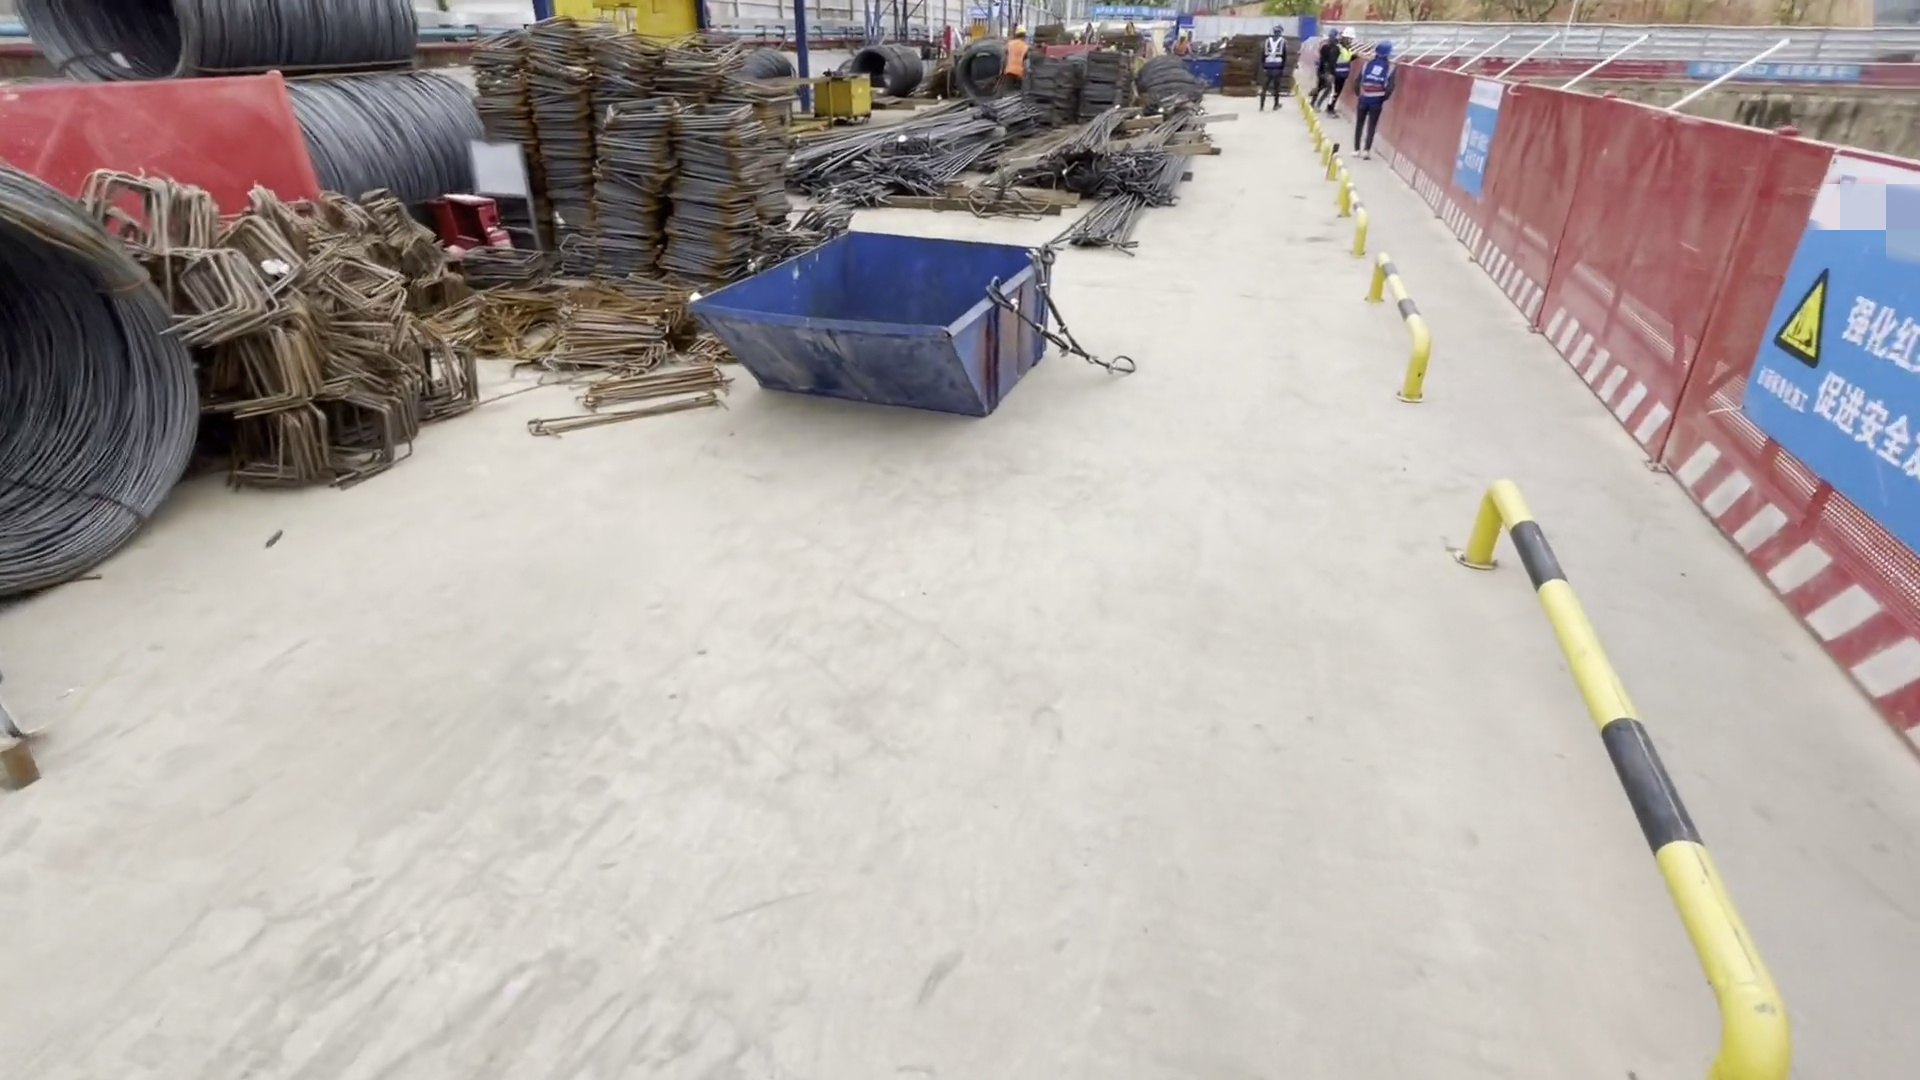fence: (1392, 62, 1920, 743), (1, 71, 319, 213)
helmet: (1375, 42, 1390, 55), (1341, 26, 1355, 39)
hopper: (684, 226, 1069, 432)
person: (1358, 44, 1390, 161), (1331, 29, 1358, 117), (1261, 24, 1286, 111), (1312, 31, 1337, 116), (1000, 27, 1028, 97)
rebar: (1026, 107, 1208, 266), (788, 90, 1016, 198)
slogan: (1717, 137, 1920, 548), (1451, 80, 1492, 189)
vest: (1361, 57, 1388, 98), (1004, 41, 1024, 77), (1333, 41, 1351, 75), (1263, 35, 1283, 67)
